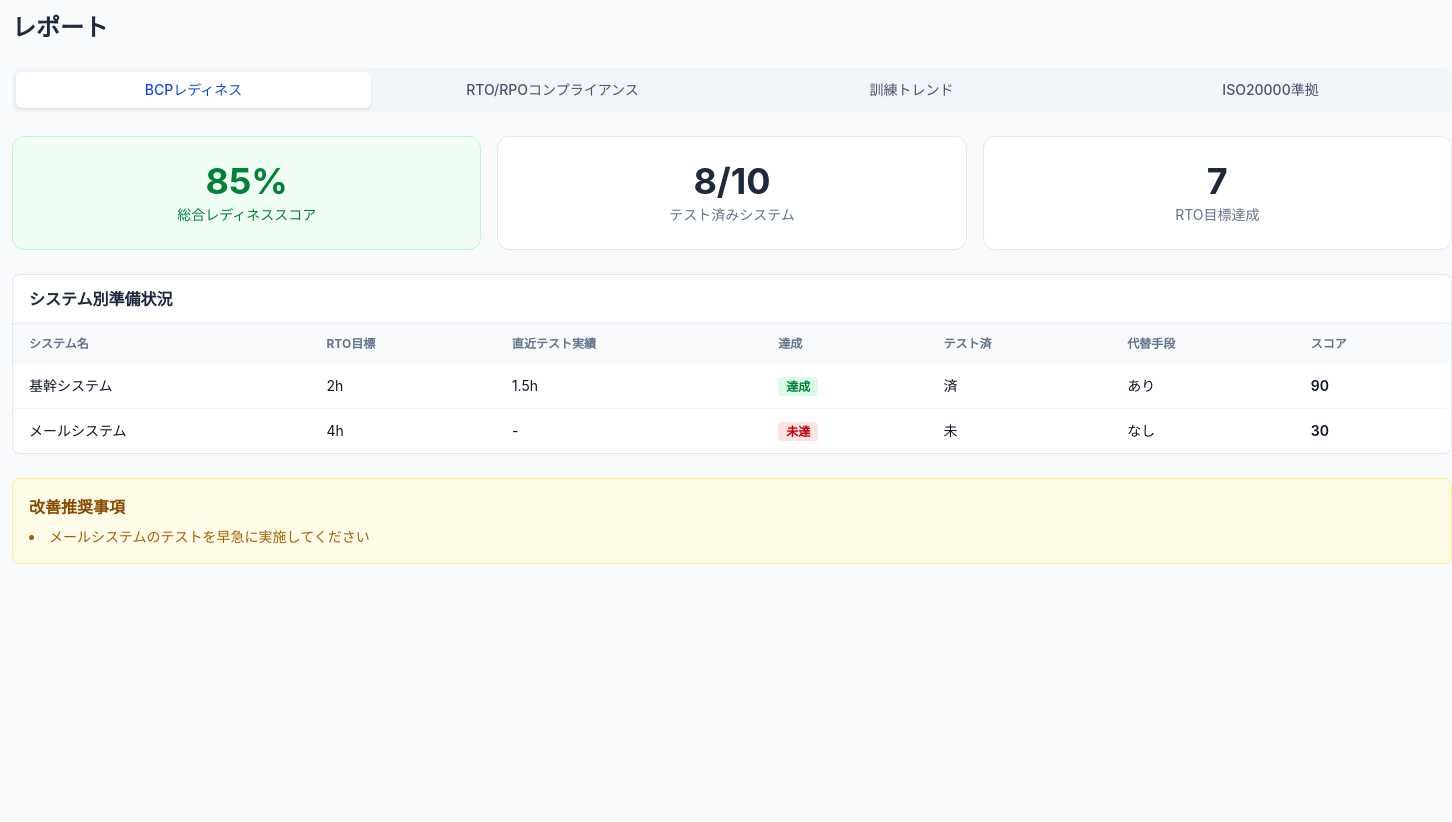
ReportsPage compliance tab › renders compliance rate badge
expect the text "総合レディネススコア" is shown: met, box [177,206,316,223]
Click the button "RTO/RPOコンプライアンス" at (552, 90), box [375,72,730,108]
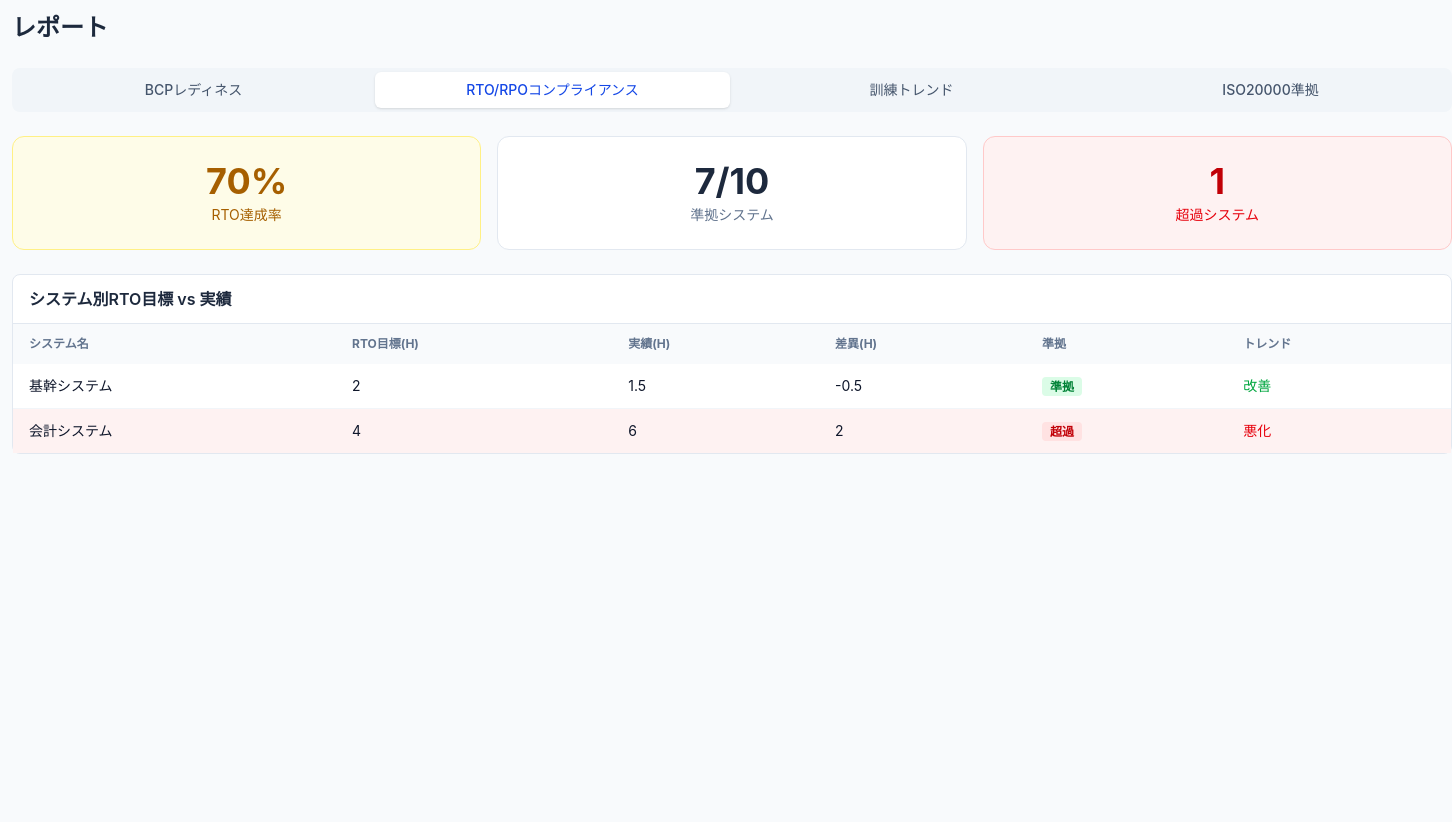
expect the text "70%" is shown: met, box [206,159,287,203]
expect the text "RTO達成率" is shown: met, box [212,206,282,223]
